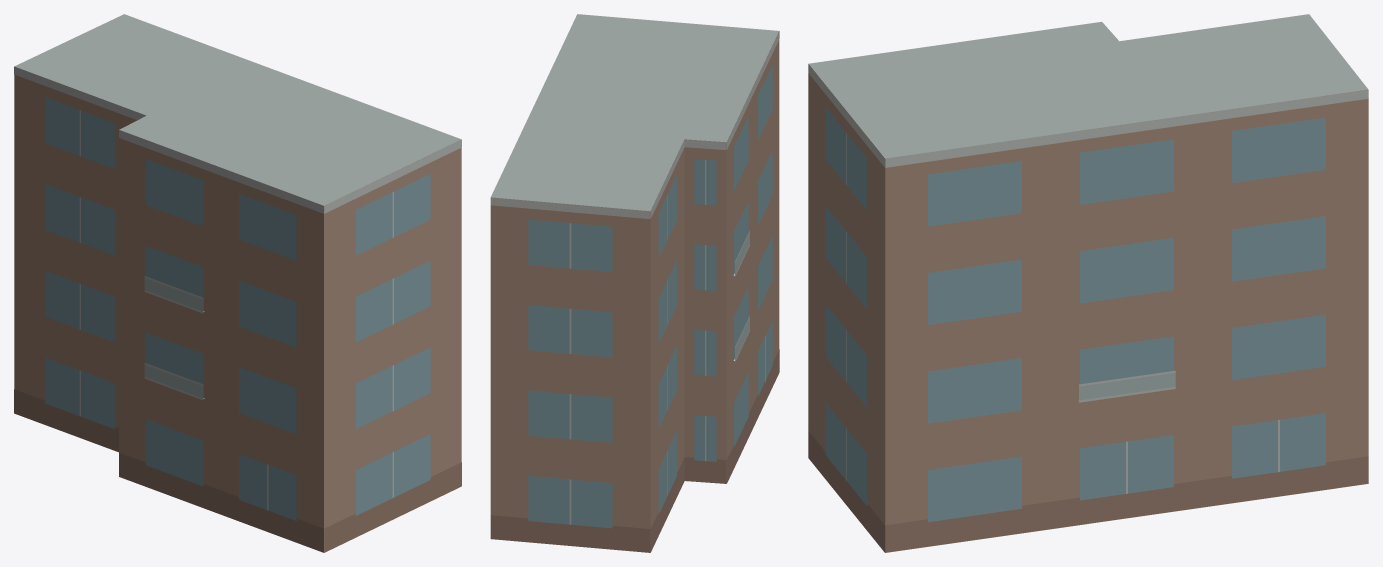
The model's file is survey-upis-32719898.glb.
3 views of the same model, side by side, from view 1: azimuth 30°, elevation 25°; view 2: azimuth 150°, elevation 25°; view 3: azimuth 270°, elevation 25° (orthographic). The views are drawn at different scales.
Parts seen in each view (by area): view 1: survey-upis-32719898.tmp; view 2: survey-upis-32719898.tmp; view 3: survey-upis-32719898.tmp.
Boxes of the visible parts, box(x1,y1,x2,y2) form: survey-upis-32719898.tmp: box(14, 14, 461, 552); survey-upis-32719898.tmp: box(490, 14, 779, 552); survey-upis-32719898.tmp: box(808, 14, 1368, 552).
Bounding box in the file's own units: 8.28 × 10.5 × 13.54.
